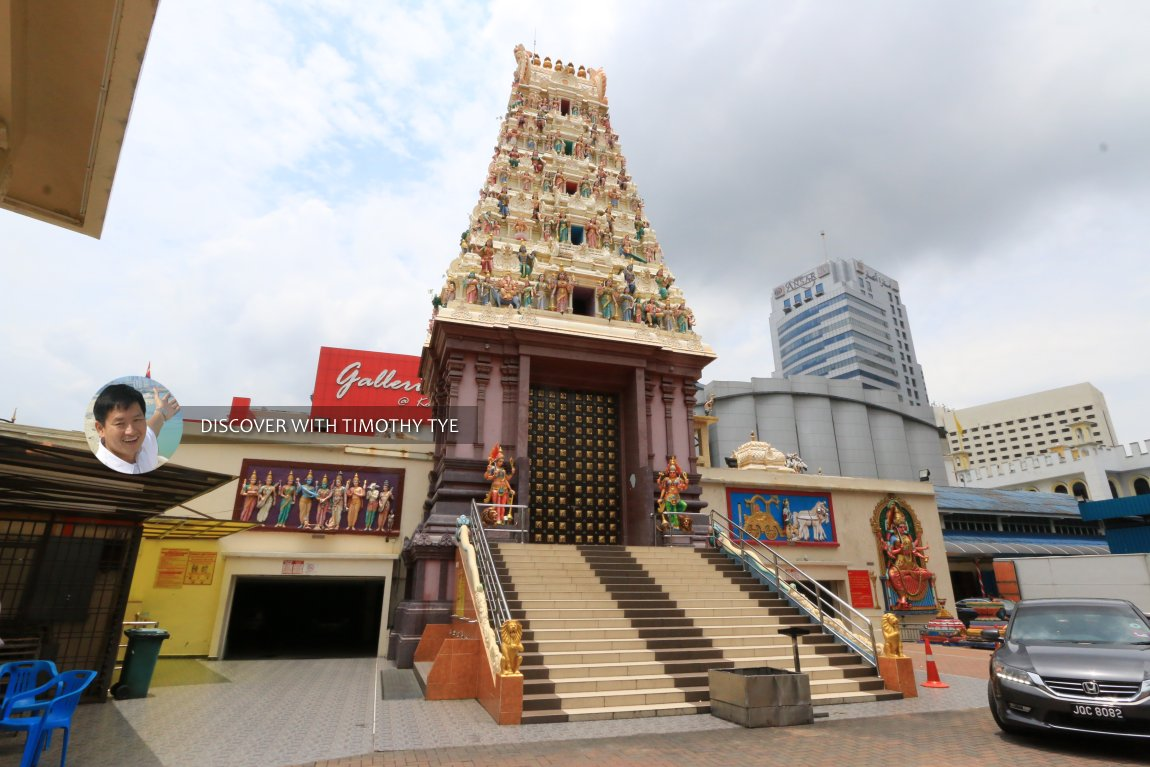Hindu Temple: (367, 51, 699, 690)
